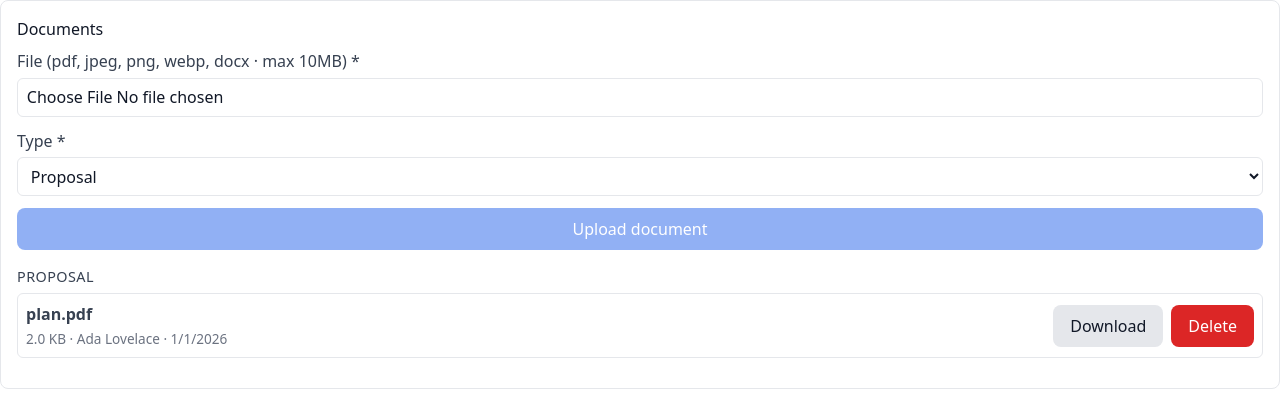
Test: DocumentsSection › deletes a document and refreshes the list
Click the button with test id "document-delete-d1": (1213,326) [1171,305,1254,347]
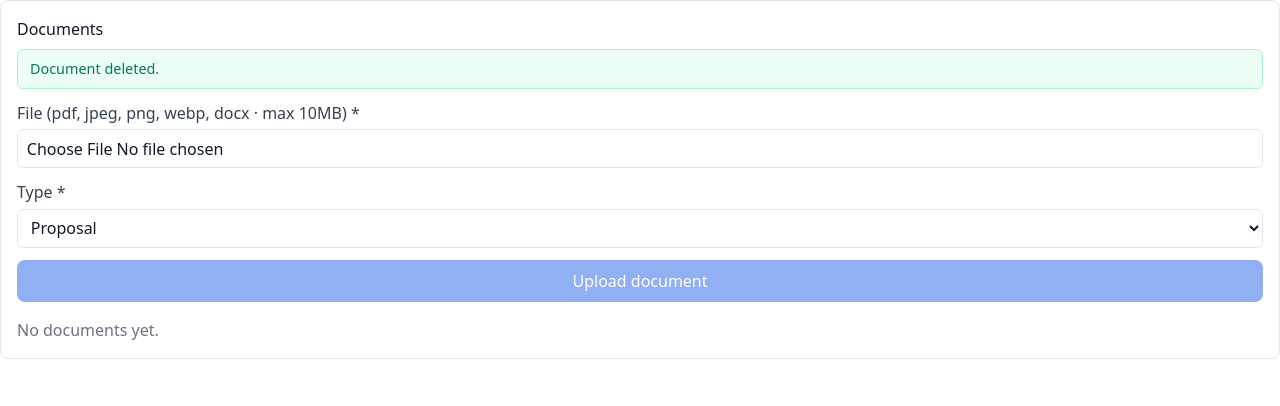
Result: the message with test id "documents-notice" shows "deleted" at [30,59,159,78]
Result: the text "No documents yet." is shown at [17,319,159,341]
